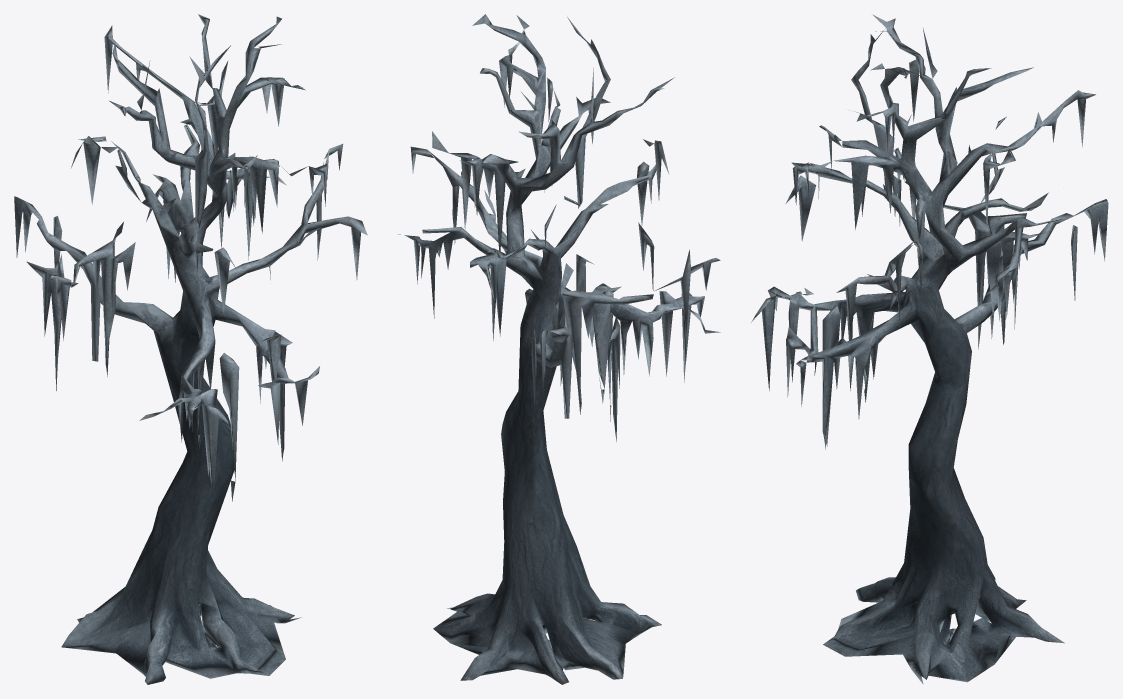
Rendered from frozen_deadtree.glb.
The picture shows the model from 3 angles, left to right: view 1: azimuth 30°, elevation 25°; view 2: azimuth 150°, elevation 25°; view 3: azimuth 270°, elevation 25°; orthographic projection. The views are drawn at different scales.
Size of the model in its own units: 0.9107 by 1.75 by 0.9373.
Materials: 1 (1 with a texture image).
